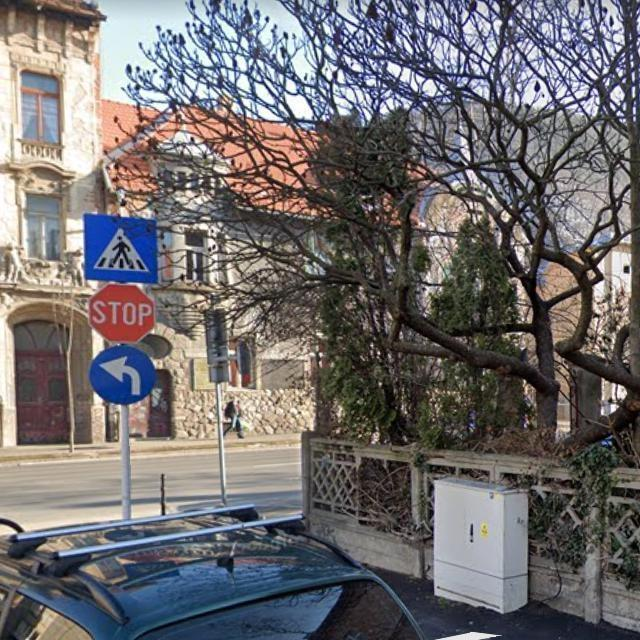info_crosswalk: (84, 212, 160, 283)
prio_stop: (86, 284, 153, 342)
